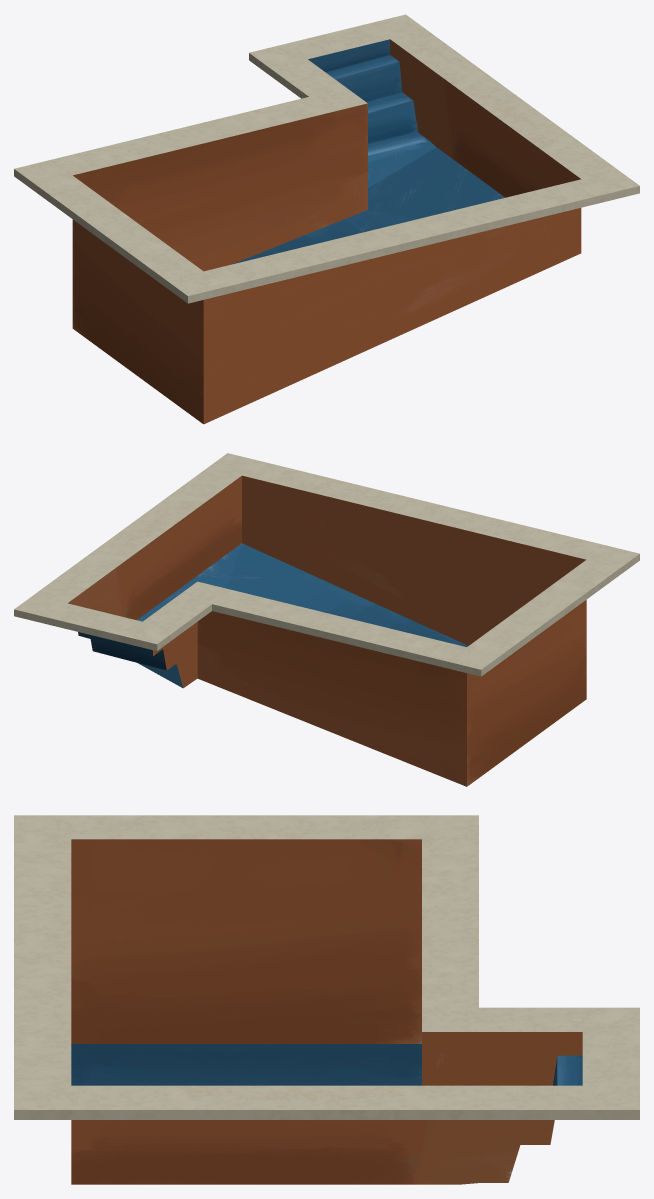
Rendered from Adult Pool.fbx.
3 views of the same model, one above another, from view 1: azimuth 30°, elevation 25°; view 2: azimuth 150°, elevation 25°; view 3: azimuth 270°, elevation 25° (orthographic). The views are drawn at different scales.
Visible parts, largest first — view 1: Adult pool; view 2: Adult pool; view 3: Adult pool.
Part boxes in pixels (x1=…): Adult pool: x1=14, y1=14, x2=639, y2=424; Adult pool: x1=14, y1=453, x2=639, y2=786; Adult pool: x1=14, y1=815, x2=639, y2=1184.
Size of the model in its own units: 1500 by 485 by 1346.
